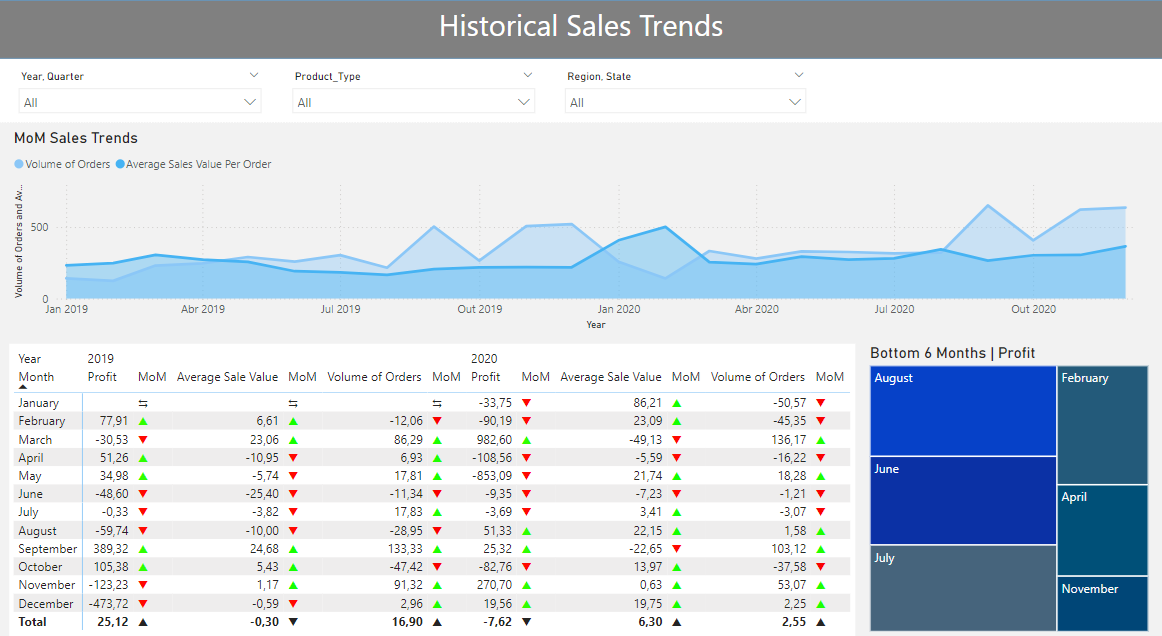

This screenshot's page, from the dashboard's own definition file:
{"tool":"powerbi","page":{"name":"Sales Trends","canvas":[1280,720],"ordinal":1},"visuals":[{"type":"pivotTable","fields":{"Values":["_Measures.TotalProfit_MoM%","_Measures.ArrowMeasure","_Measures.AverageSaleValue_MoM%","_Measures.ArrowMeasure_AVS","_Measures.VolumeofOrders_MoM%","_Measures.ArrowMeasure_VoO"],"Columns":["Dim_Date.Date.Variation.Date Hierarchy.Year"],"Rows":["Dim_Date.Date.Variation.Date Hierarchy.Month"]},"box":[12.3,373.2,937.2,337.6],"z":0},{"type":"areaChart","title":"MoM Sales Trends","fields":{"Category":["Dim_Date.Date.Variation.Date Hierarchy.Year","Dim_Date.Date.Variation.Date Hierarchy.Month"],"Y":["_Measures.Volume of Orders","_Measures.Average Sales Value Per Order"]},"box":[12.3,152.3,1255.6,207.2],"z":1000},{"type":"slicer","fields":{"Values":["Dim_Date.Date.Variation.Date Hierarchy.Year","Dim_Date.Date.Variation.Date Hierarchy.Quarter"]},"box":[981.1,82.3,286.8,54.9],"z":2000},{"type":"slicer","fields":{"Values":["Dim_Product.Product_Type"]},"box":[402.1,82.3,286.8,54.9],"z":3000},{"type":"slicer","fields":{"Values":["Dim_Location.Region","Dim_Location.State"]},"box":[695.7,82.3,285.4,54.9],"z":4000},{"type":"clusteredBarChart","fields":{"Category":["Dim_Date.Date.Variation.Date Hierarchy.Month"],"Y":["_Measures.Total Profit"]},"box":[961.9,373.2,306,336.2],"z":5000},{"type":"image","box":[11,9.6,391.1,124.9],"z":6000},{"type":"shape","box":[415.8,9.6,864.5,52.1],"z":7000},{"type":"textbox","box":[981.1,9.6,299.1,52.1],"z":8000}]}

Visuals, with their boxes in screenshot pixels (x1, y1, x2, y2), scaled from the page's 1280x720 canvas onto the 1162x636 screenshot:
pivotTable - _Measures.TotalProfit_MoM% x _Measures.ArrowMeasure: l=11, t=330, r=862, b=628
"MoM Sales Trends" areaChart: l=11, t=135, r=1151, b=318
slicer - Dim_Date.Date.Variation.Date Hierarchy.Year x Dim_Date.Date.Variation.Date Hierarchy.Quarter: l=891, t=73, r=1151, b=121
slicer - Dim_Product.Product_Type: l=365, t=73, r=625, b=121
slicer - Dim_Location.Region x Dim_Location.State: l=632, t=73, r=891, b=121
clusteredBarChart - Dim_Date.Date.Variation.Date Hierarchy.Month x _Measures.Total Profit: l=873, t=330, r=1151, b=627
image: l=10, t=8, r=365, b=119
shape: l=377, t=8, r=1161, b=55
textbox: l=891, t=8, r=1161, b=55
